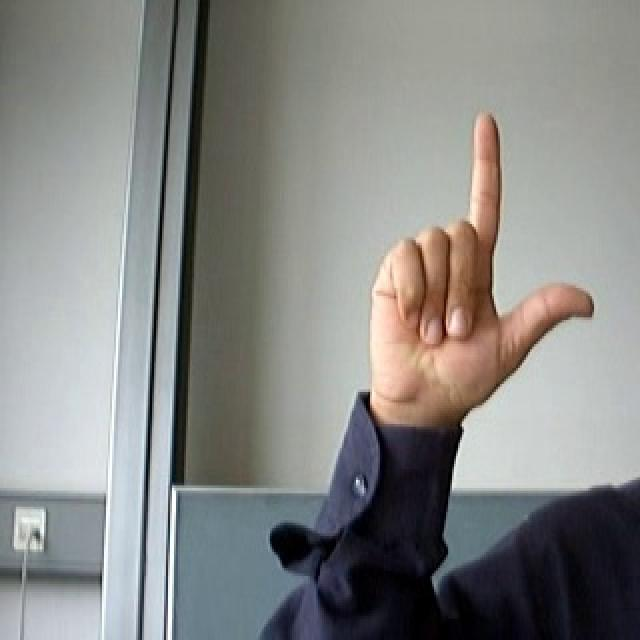L: (365, 103, 601, 408)
